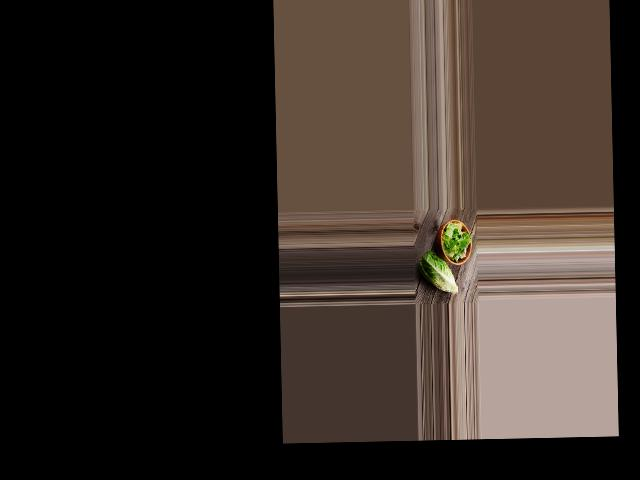lettuce: (417, 250, 458, 293)
